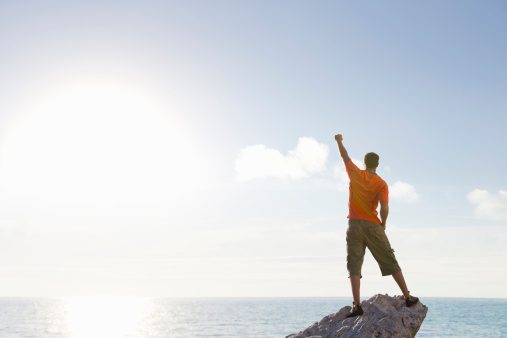em pe: (327, 134, 410, 317)
